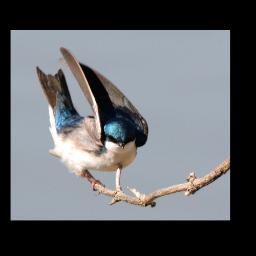Swallow: (34, 45, 149, 195)
